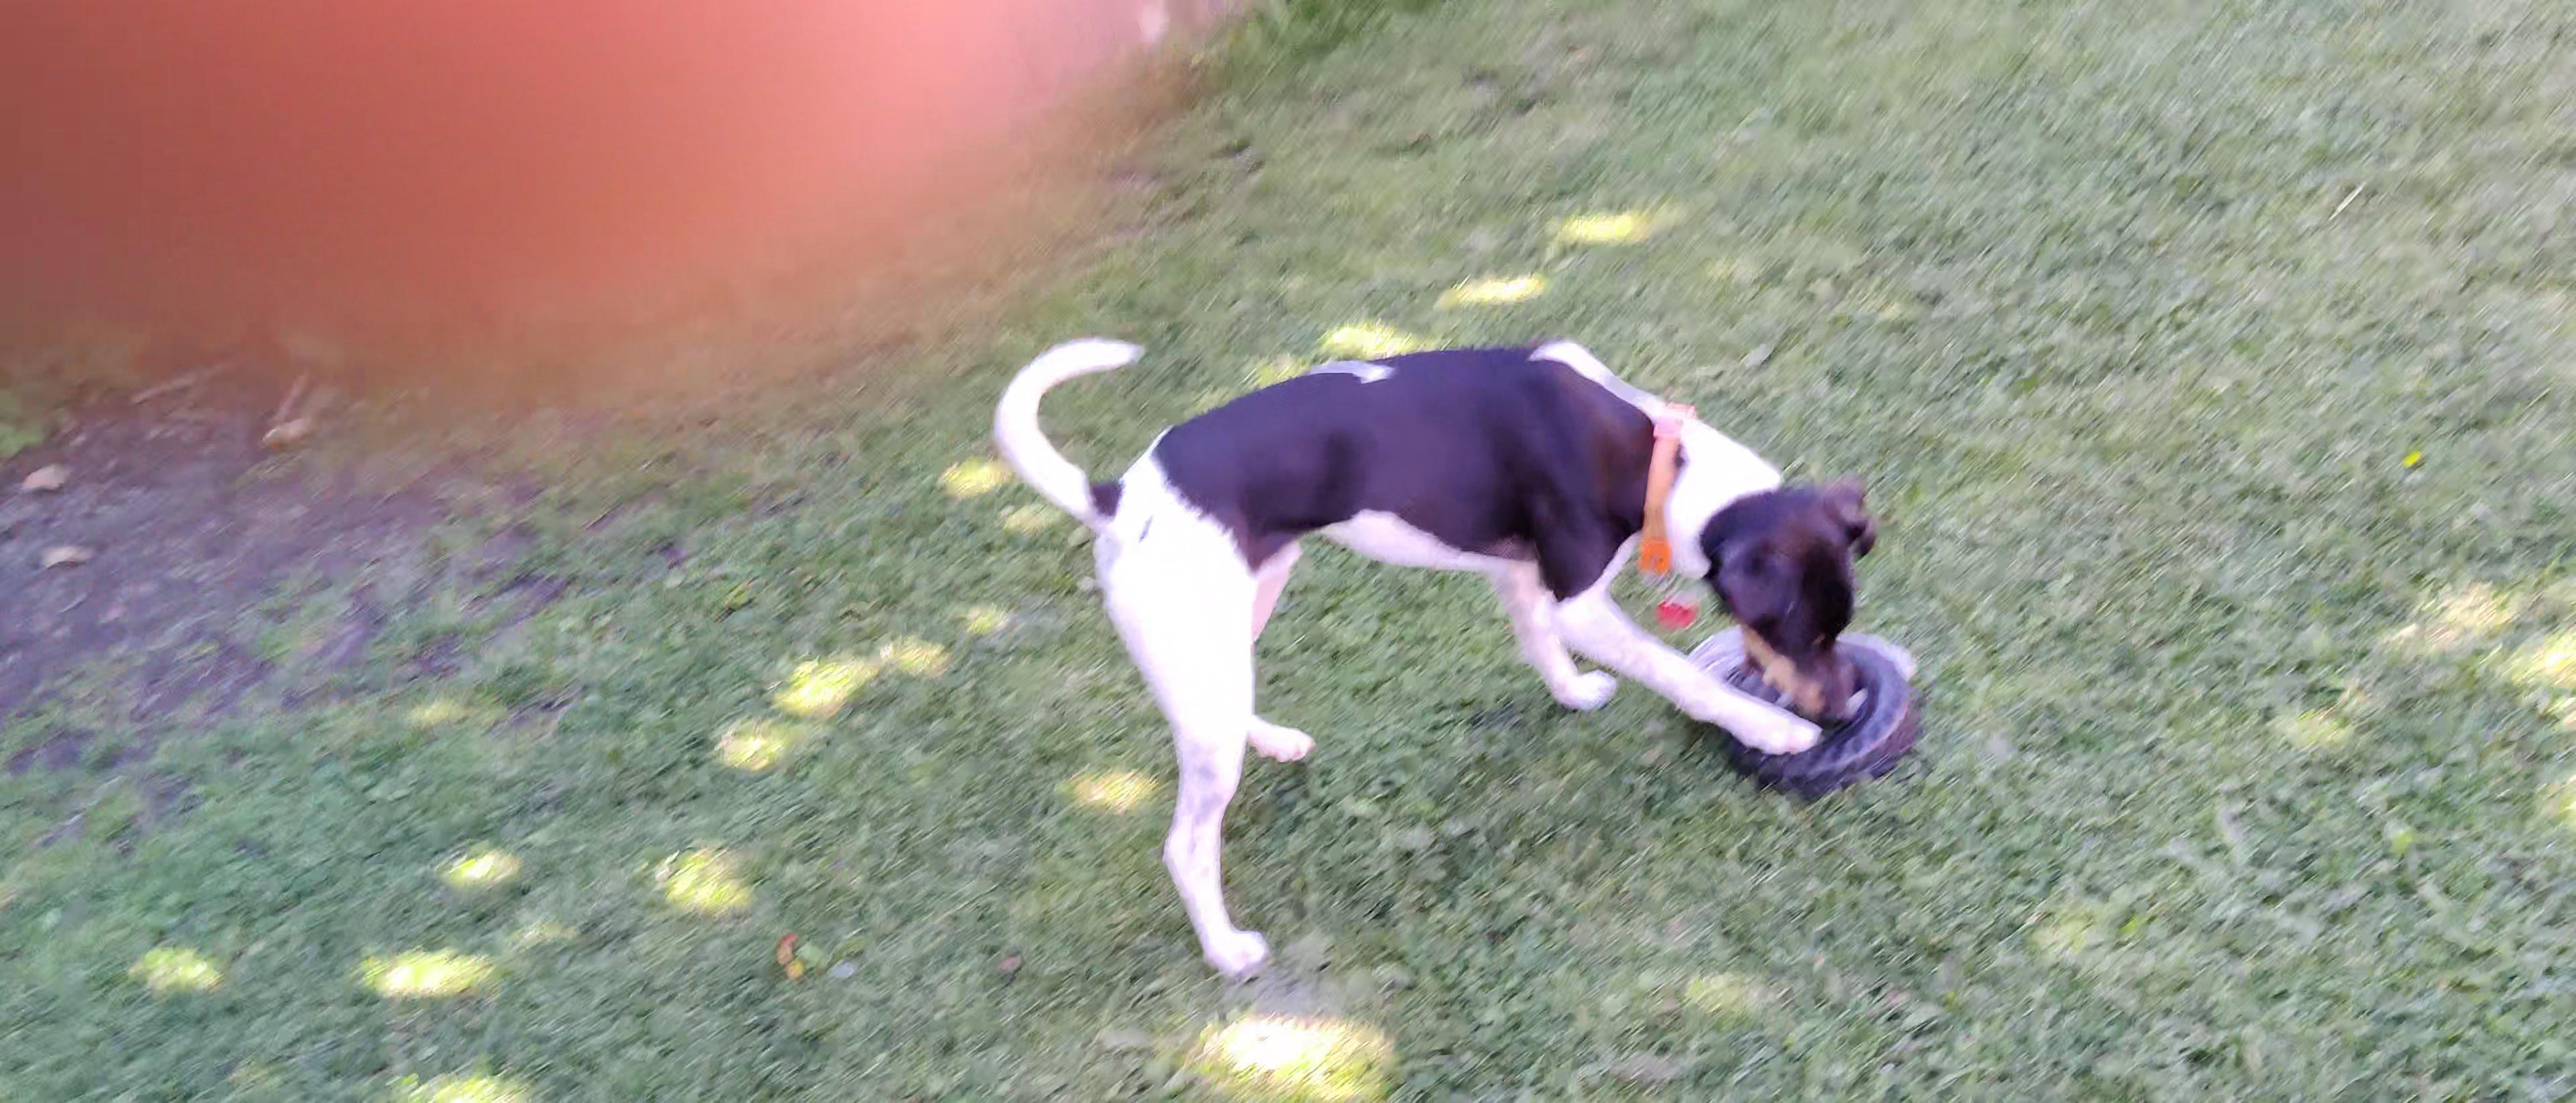Dog: (987, 329, 1886, 986)
